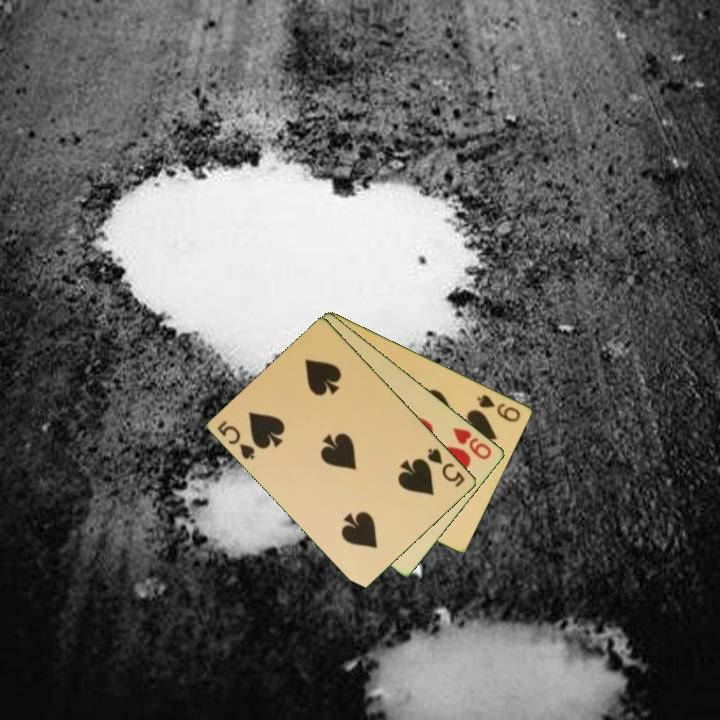5s: (214, 417, 258, 463), (424, 445, 468, 490)
9h: (450, 424, 495, 462)
9s: (474, 391, 524, 425)
